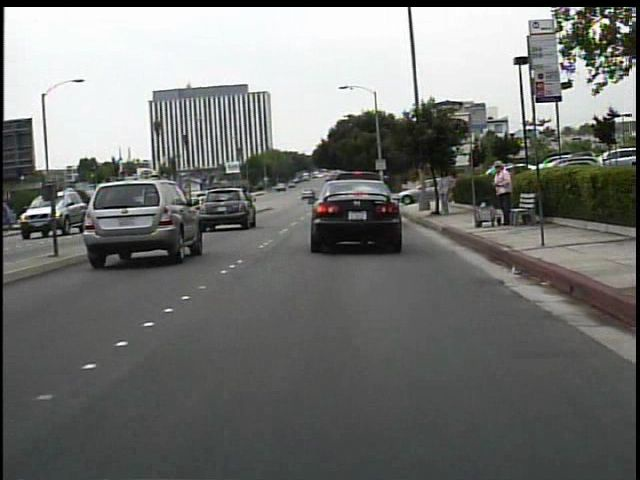person: (486, 159, 515, 228), (434, 166, 460, 218)
